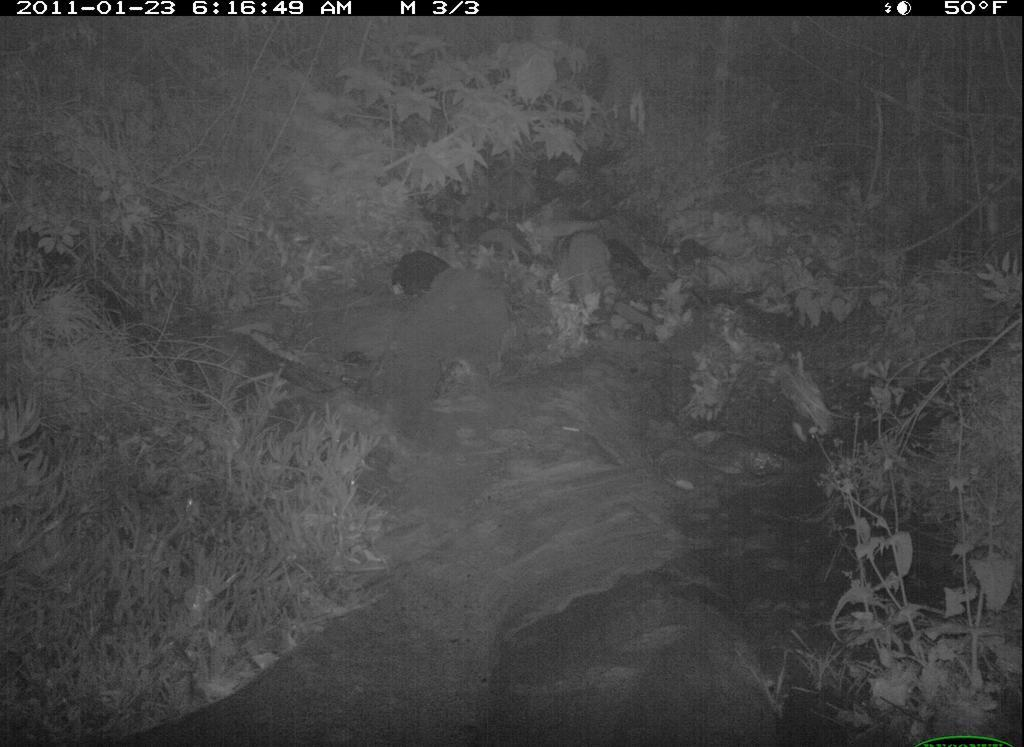raccoon: (546, 221, 630, 329)
